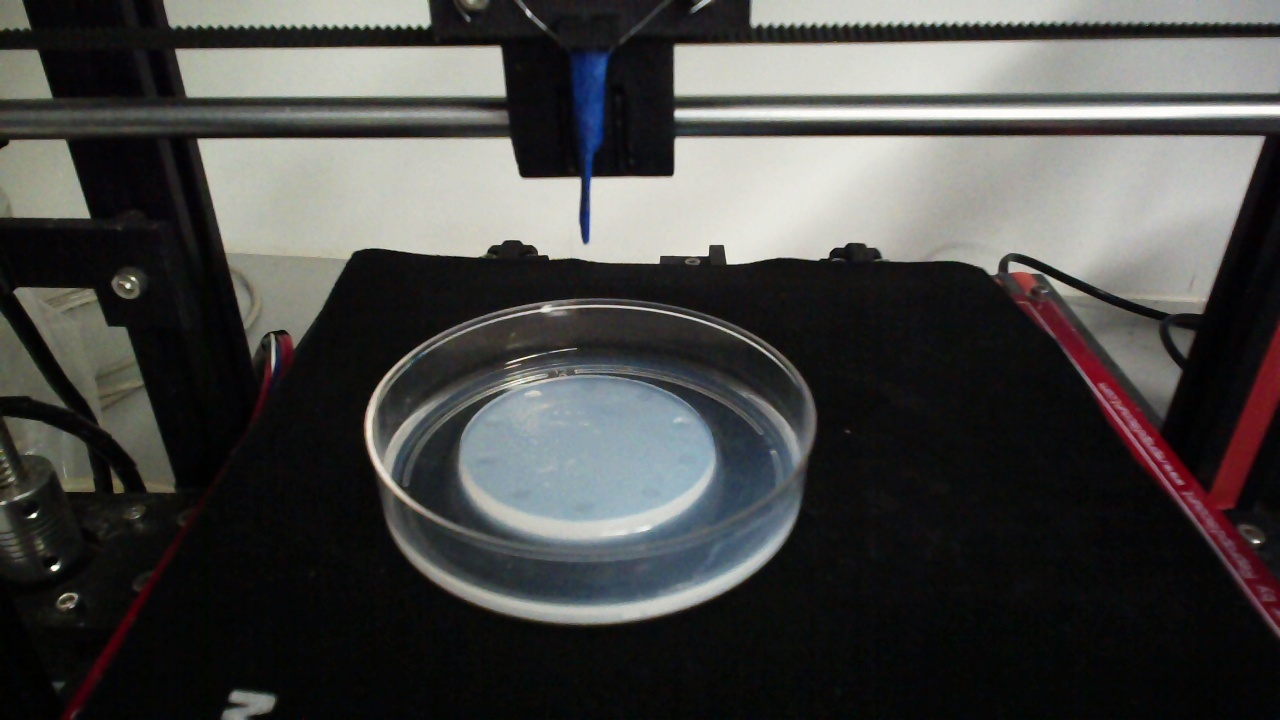groove: (508, 486, 532, 506), (571, 497, 595, 517), (639, 483, 663, 503), (480, 415, 506, 432), (676, 451, 699, 469), (670, 416, 695, 432), (474, 454, 497, 470), (523, 390, 542, 406), (578, 380, 598, 394), (634, 390, 652, 403)
needle: (570, 56, 607, 246)
